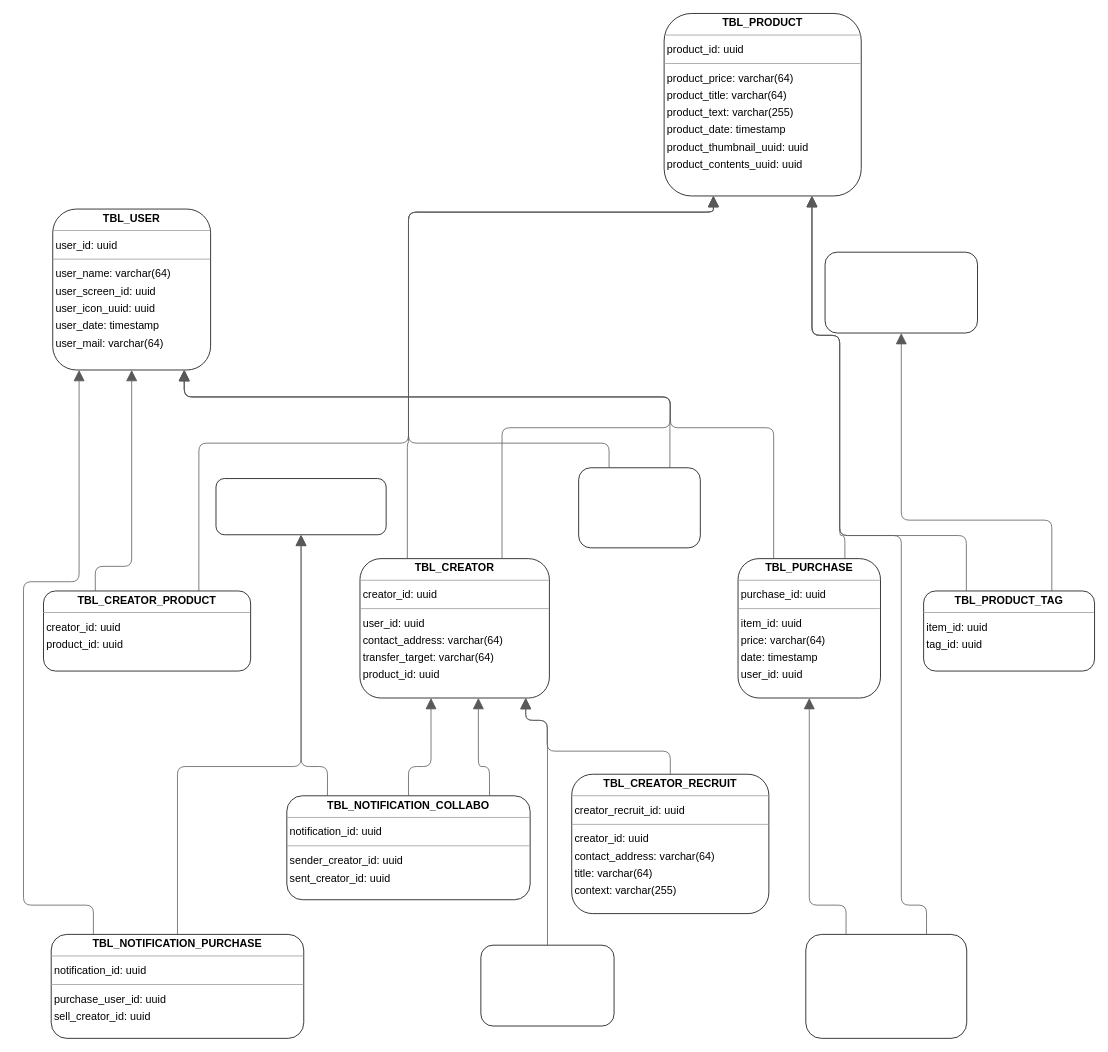
The diagram is 1108 pixels wide and 1052 high, and some of its shapes have lost their labels. The shapes that lost their labels are listed below. From the top down, each one's centre as x and y in pixels, then its label:
At [901,292]: "TBL_TAG tag_id: uuid tag_name: varchar(64)".
At [300,506]: "TBL_NOTIFICATION notification_id: uuid".
At [639,507]: "いいねテーブル 商品ID: uuid プロダクトID: uuid".
At [547,985]: "TBL_RANKING creator_id: uuid score: varchar(64)".
At [886,986]: "TBL_SERIALCODE purchase_id: uuid item_id: uuid serial_code: varchar(64)".
